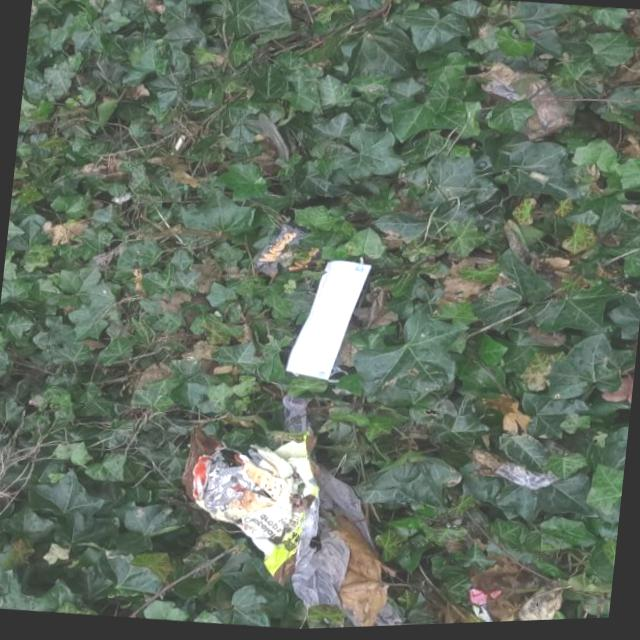Mask: (283, 252, 373, 389)
Plastic: (171, 418, 329, 595), (474, 70, 578, 149), (251, 220, 324, 285), (492, 460, 563, 498), (463, 588, 504, 627)
